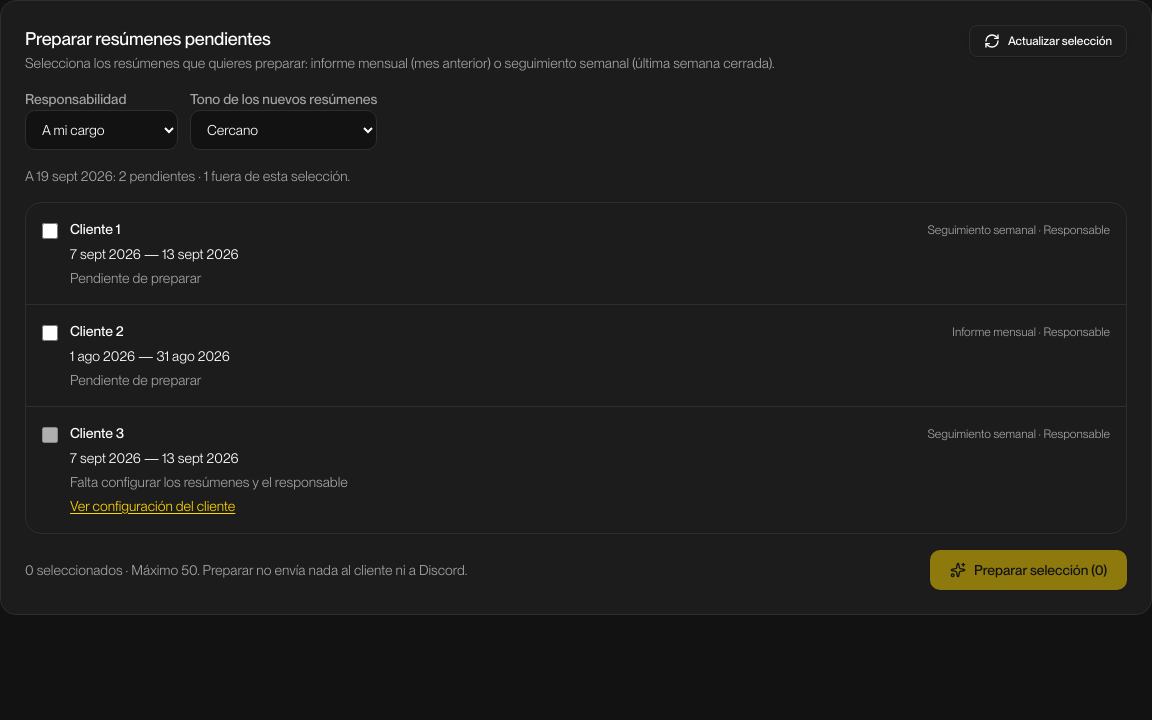
Test case: admin can choose team, and changing scope discards the old selection
Step 1. Click the checkbox named "Preparar Cliente 1 · Seguimiento semanal" → (50, 231), box x1=42 y1=223 x2=58 y2=239
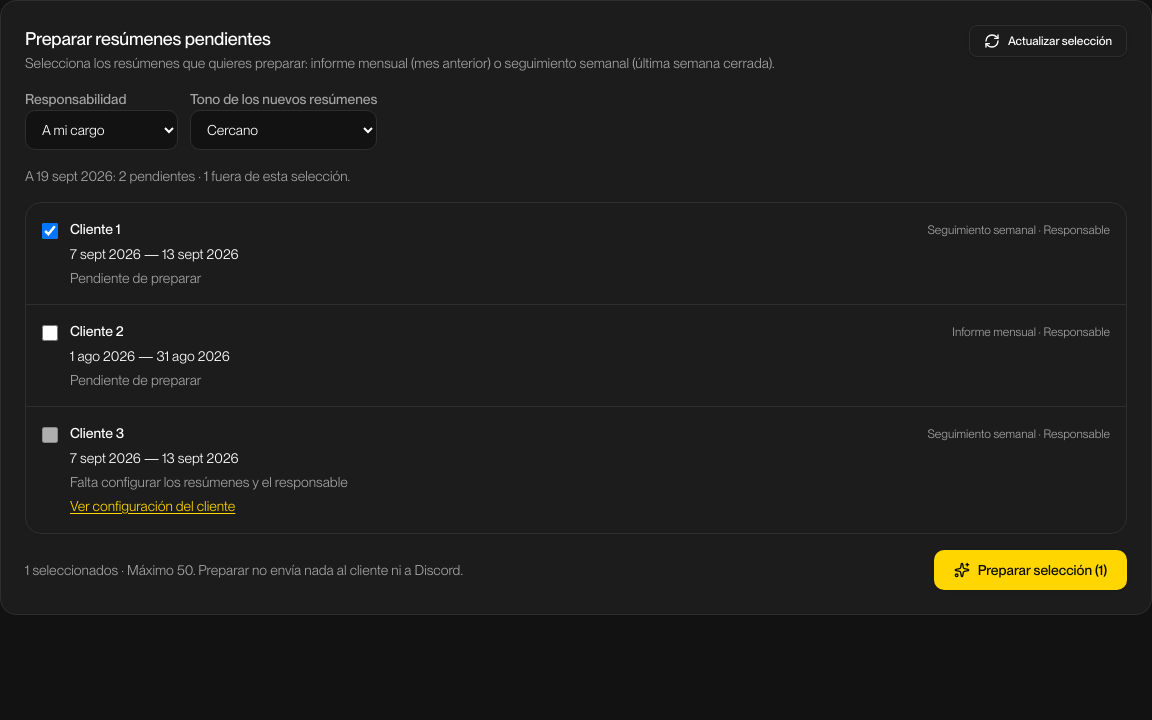
Step 2. Select "Todo el equipo" in the dropdown labelled "Responsabilidad" → (102, 130), box x1=25 y1=110 x2=178 y2=150
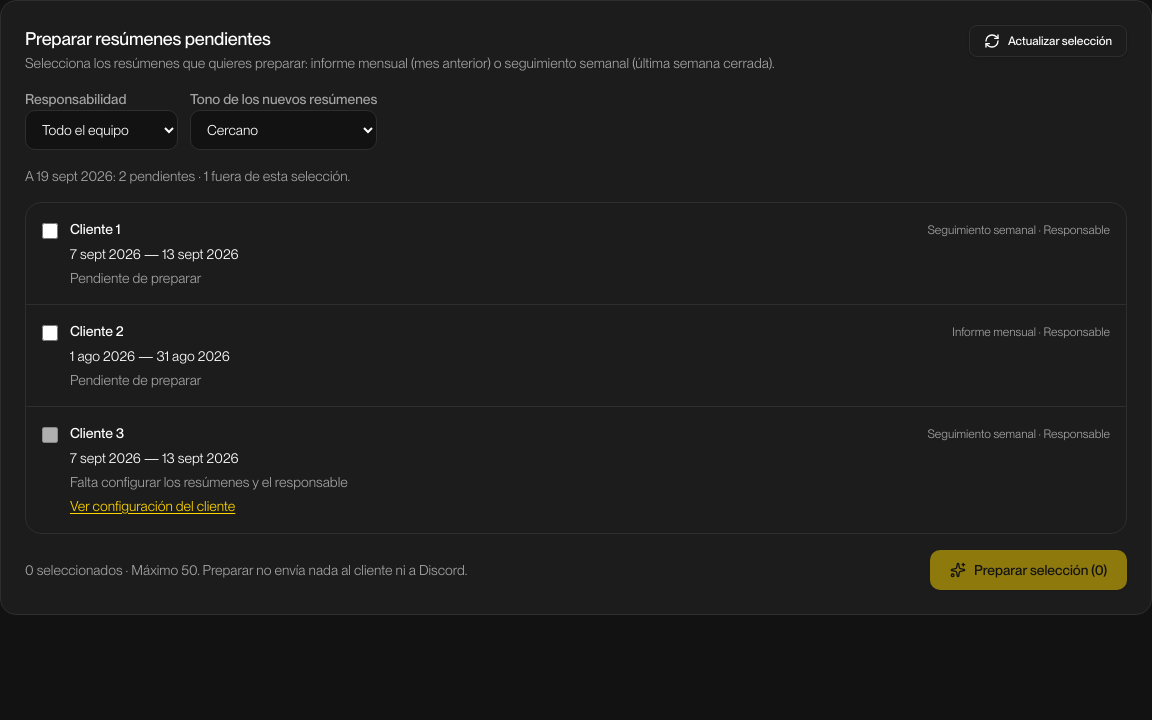
expect the button "Preparar selección (0)" is disabled: met, box x1=930 y1=550 x2=1127 y2=590
